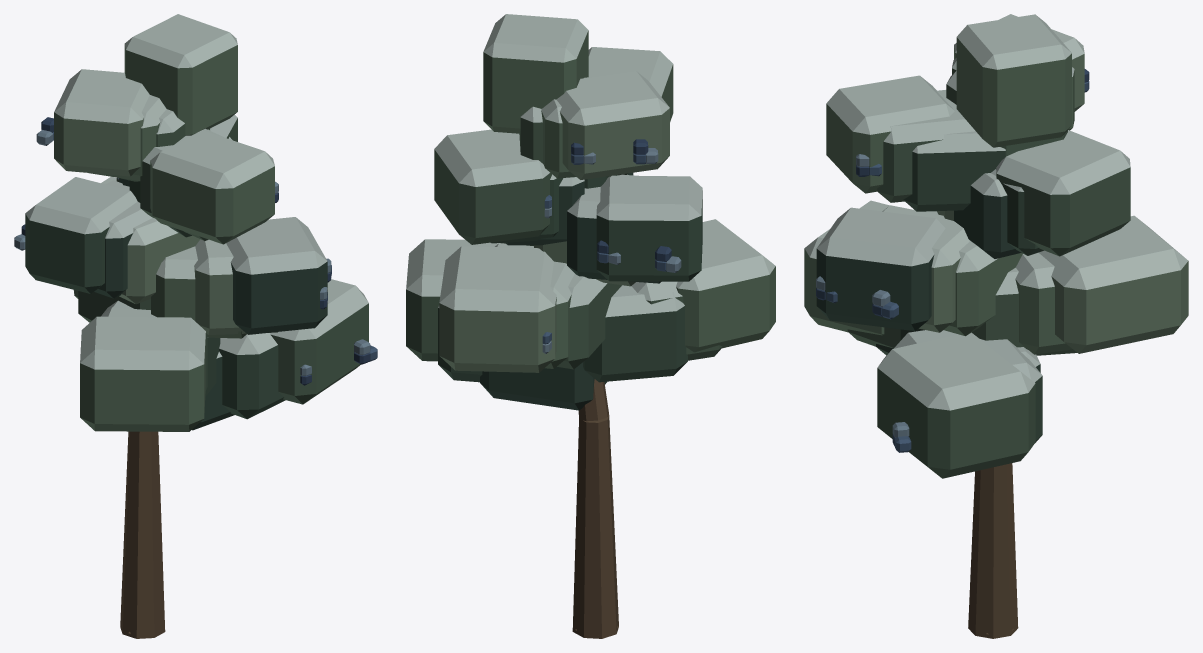
File: juniper_mature_winter.glb
3 views of the same model, side by side, from view 1: azimuth 30°, elevation 25°; view 2: azimuth 150°, elevation 25°; view 3: azimuth 270°, elevation 25° (orthographic). The views are drawn at different scales.
Visible parts, largest first — view 1: juniper_mature_winter; view 2: juniper_mature_winter; view 3: juniper_mature_winter.
Part boxes in pixels (box(x1,y1,x2,y2)): juniper_mature_winter: box(14, 14, 377, 638); juniper_mature_winter: box(406, 14, 775, 638); juniper_mature_winter: box(804, 14, 1188, 638).
Bounding box in the file's own units: 6.91 × 12 × 6.75.
